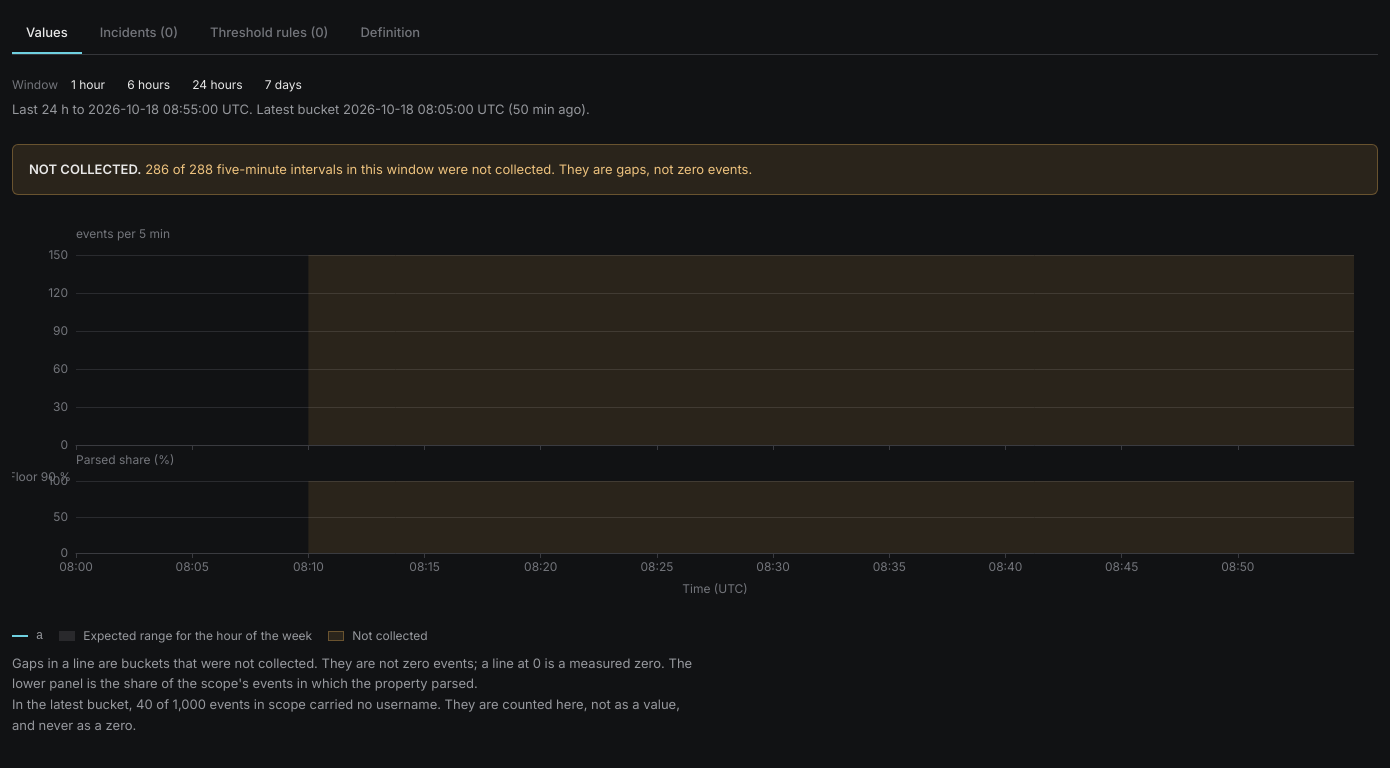
it: the tabs › shows the definition read only, with the caps in force and no input
What coordinates should you click on to do the following:
click the tab "Definition"
I would click on:
 (390, 33)
Its box is [346,12,434,54].
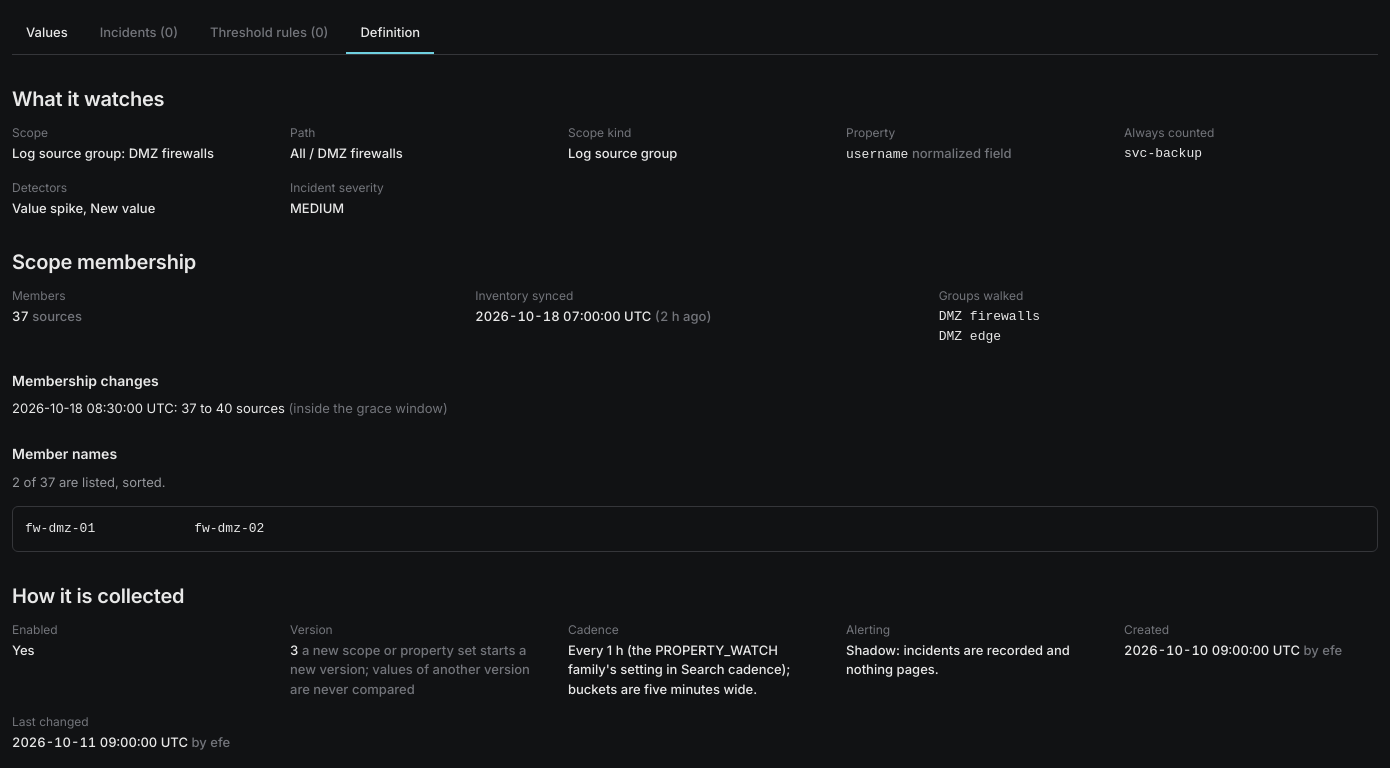
Expected: the text "Log source group: DMZ firewalls" is shown, [12,145,214,161]
